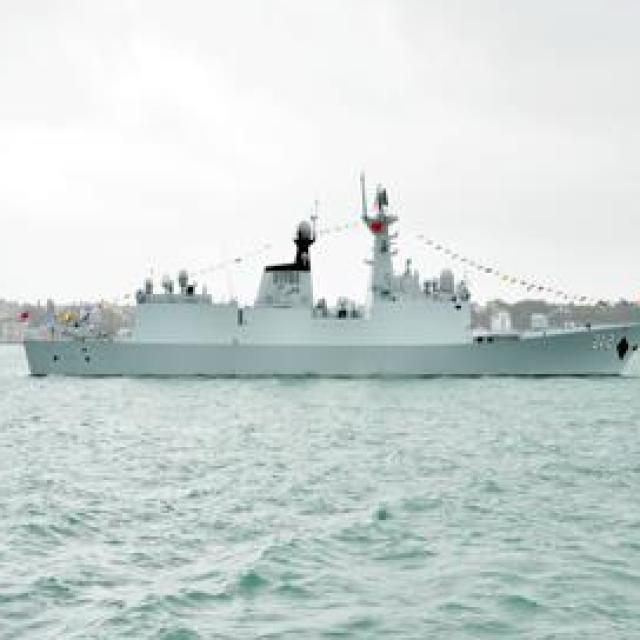navalvessels: (0, 186, 640, 379)
